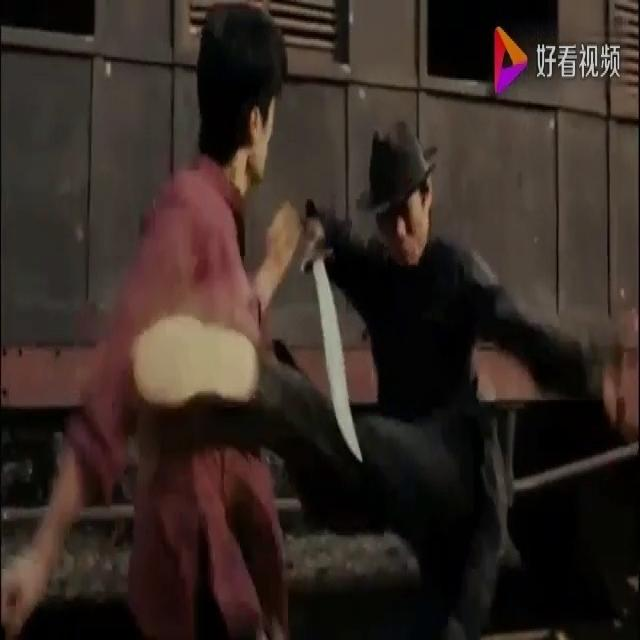fight: (123, 68, 531, 638)
